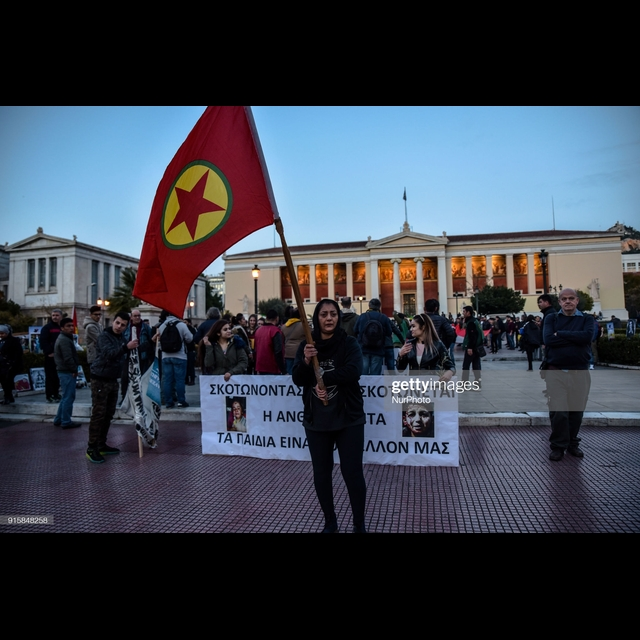PKK: (115, 104, 283, 318)
